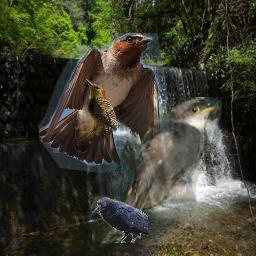Crow: (91, 196, 148, 243)
Cuckoo: (92, 97, 222, 249)
Swallow: (39, 33, 169, 196)
Woodpecker: (85, 79, 117, 141)
